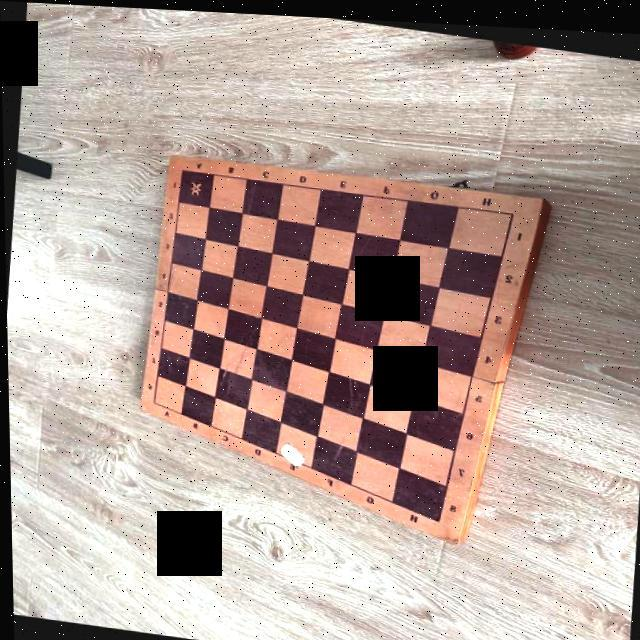chess-table-corners: (503, 202, 519, 214), (430, 508, 441, 522), (176, 163, 188, 172), (148, 397, 156, 403)
